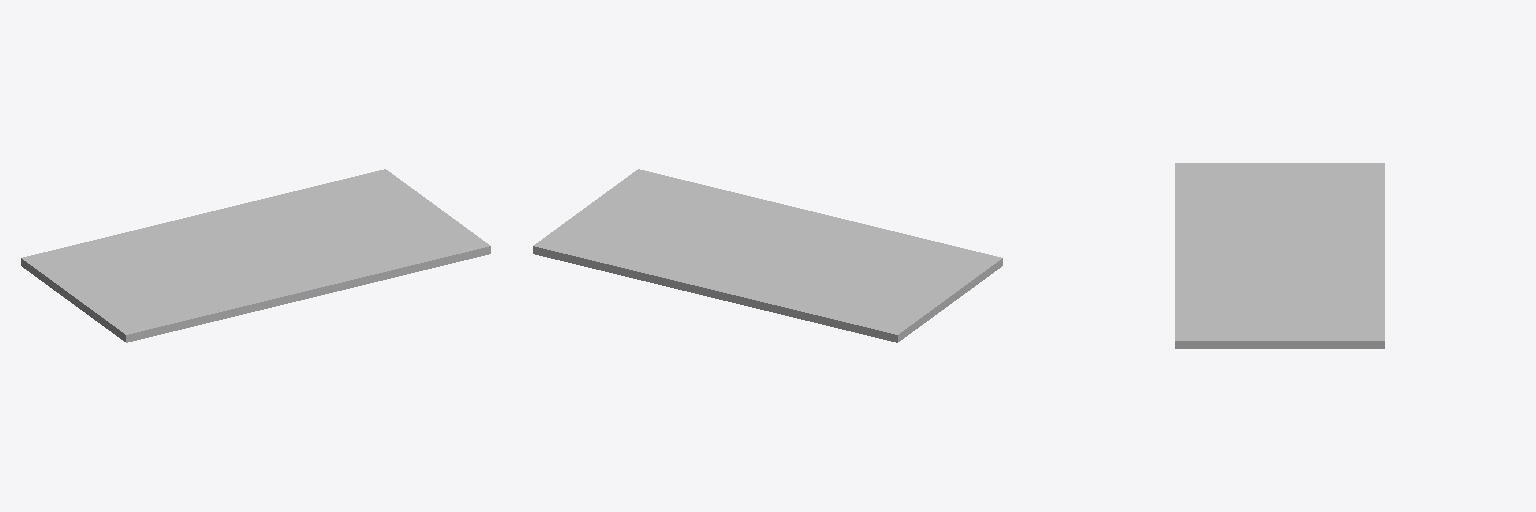
File: Plate4_12x6.obj
3 renders of one model, left to right at view 1: azimuth 30°, elevation 25°; view 2: azimuth 150°, elevation 25°; view 3: azimuth 270°, elevation 25°, orthographic.
Visible parts, largest first — view 1: Plate4_12x6_Cube.360; view 2: Plate4_12x6_Cube.360; view 3: Plate4_12x6_Cube.360.
Boxes of the visible parts, x1,y1,x2,y2 form: Plate4_12x6_Cube.360: [21, 169, 490, 342]; Plate4_12x6_Cube.360: [533, 169, 1002, 342]; Plate4_12x6_Cube.360: [1175, 163, 1384, 348].
Size of the model in its own units: 12 by 0.25 by 6.